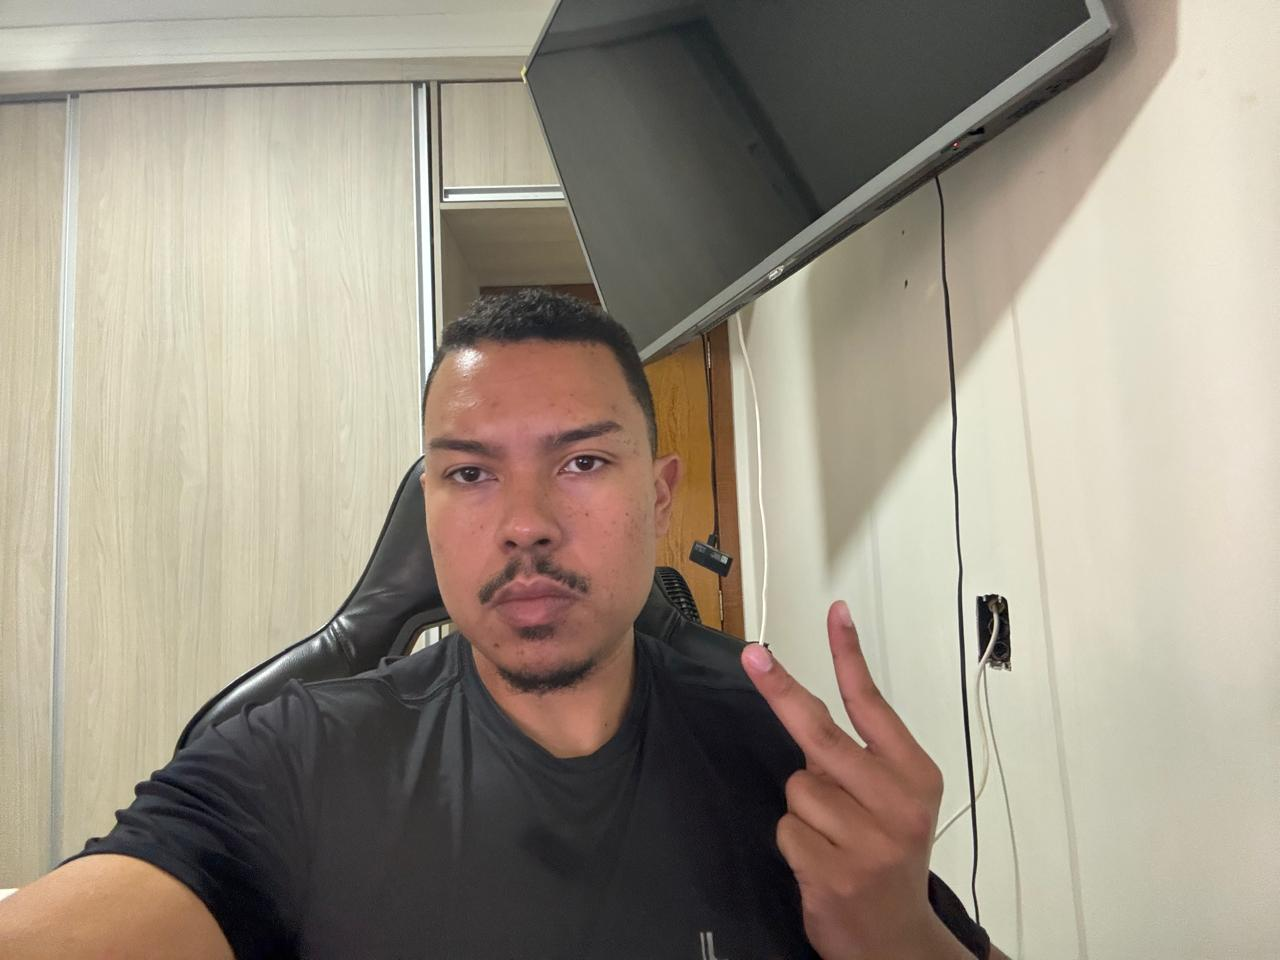h: (729, 590, 975, 960)
